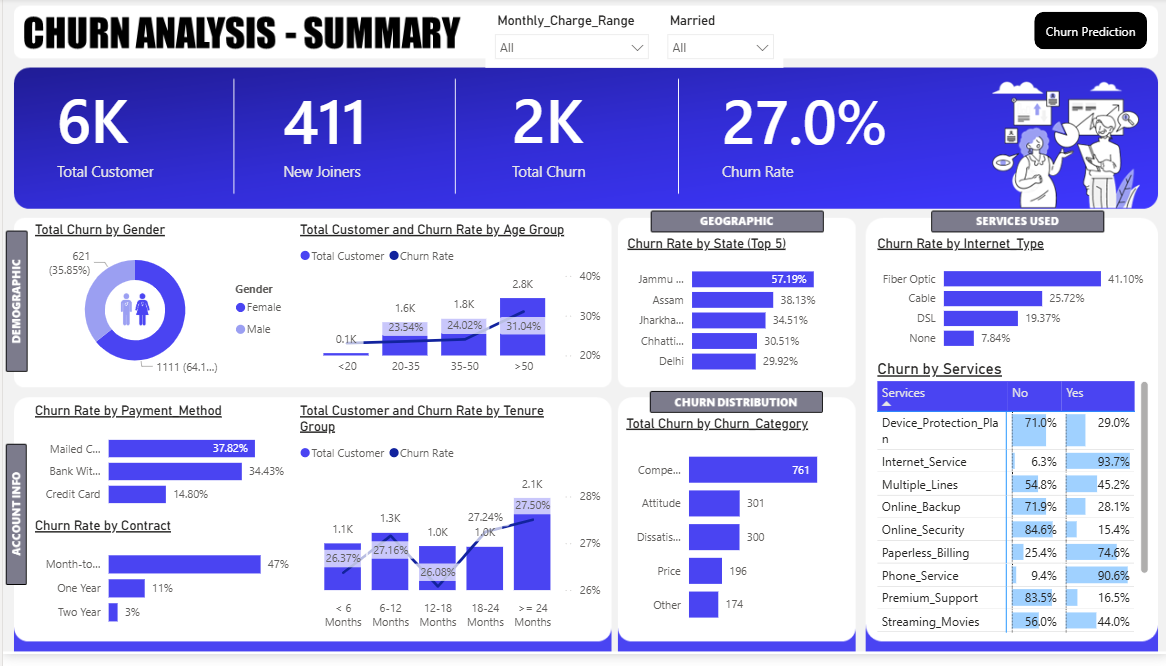

The dashboard page shown, as its layout file describes it:
{"tool":"powerbi","page":{"name":"Summary","canvas":[1280,720],"ordinal":0},"visuals":[{"type":"cardVisual","fields":{"Data":["tbl_Measures.Total Customer"]},"box":[30.2,67.2,182.5,153.7],"z":0},{"type":"cardVisual","fields":{"Data":["tbl_Measures.New Joiners"]},"box":[278.6,60.4,190.7,168.8],"z":1000},{"type":"cardVisual","fields":{"Data":["tbl_Measures.Total Churn"]},"box":[529.7,67.2,190.7,153.7],"z":2000},{"type":"cardVisual","fields":{"Data":["tbl_Measures.Churn Rate"]},"box":[760.2,65.9,242.9,157.8],"z":3000},{"type":"donutChart","fields":{"Category":["prod_Churn.Gender"],"Y":["tbl_Measures.Total Churn"]},"box":[30.2,245.6,290.9,177],"z":4000},{"type":"lineStackedColumnComboChart","fields":{"Category":["mapping_AgeGrp.Age Group"],"Y":["tbl_Measures.Total Customer"],"Y2":["tbl_Measures.Churn Rate"]},"box":[321.1,245.6,340.3,177],"z":5000},{"type":"clusteredBarChart","fields":{"Category":["prod_Churn.Payment_Method"],"Y":["tbl_Measures.Churn Rate"]},"box":[30.2,444.6,290.9,126.2],"z":6000},{"type":"clusteredBarChart","fields":{"Category":["prod_Churn.Contract"],"Y":["tbl_Measures.Churn Rate"]},"box":[30.2,570.8,290.9,130.4],"z":7000},{"type":"lineStackedColumnComboChart","fields":{"Category":["mapping_TenureGrp.Tenure Group"],"Y":["tbl_Measures.Total Customer"],"Y2":["tbl_Measures.Churn Rate"]},"box":[321.1,444.6,340.3,256.6],"z":8000},{"type":"clusteredBarChart","title":"Churn Rate by State (Top 5)","fields":{"Category":["prod_Churn.State"],"Y":["tbl_Measures.Churn Rate"]},"box":[680.6,260.7,252.5,161.9],"z":9000},{"type":"clusteredBarChart","fields":{"Category":["prod_Churn.Churn_Category"],"Y":["tbl_Measures.Total Churn"]},"box":[679.2,458.3,244.3,242.9],"z":10000},{"type":"clusteredBarChart","fields":{"Category":["prod_Churn.Internet_Type"],"Y":["tbl_Measures.Churn Rate"]},"box":[955.1,260.7,307.4,135.8],"z":11000},{"type":"pivotTable","title":"Churn by Services","fields":{"Rows":["prod_Services.Services"],"Columns":["prod_Services.Status"],"Values":["Sum(prod_Services.Churn_Status)"]},"box":[955.1,396.6,307.4,304.6],"z":12000},{"type":"slicer","fields":{"Values":["prod_Churn.Monthly_Charge_Status"]},"box":[529.7,11,189.4,65.9],"z":13000},{"type":"image","box":[96.1,318.4,98.8,45.3],"z":14000},{"type":"slicer","fields":{"Values":["prod_Churn.Married"]},"box":[719,11,137.2,65.9],"z":15000},{"type":"shape","box":[1131.7,14.9,123.9,41.3],"z":16000}]}

Visuals, with their boxes in screenshot pixels (x1, y1, x2, y2), scaled from the page's 1280x720 canvas onto the 1166x666 screenshot:
cardVisual - tbl_Measures.Total Customer: (28, 62, 194, 204)
cardVisual - tbl_Measures.New Joiners: (254, 56, 428, 212)
cardVisual - tbl_Measures.Total Churn: (483, 62, 656, 204)
cardVisual - tbl_Measures.Churn Rate: (692, 61, 914, 207)
donutChart - prod_Churn.Gender x tbl_Measures.Total Churn: (28, 227, 293, 391)
lineStackedColumnComboChart - mapping_AgeGrp.Age Group x tbl_Measures.Total Customer: (293, 227, 602, 391)
clusteredBarChart - prod_Churn.Payment_Method x tbl_Measures.Churn Rate: (28, 411, 293, 528)
clusteredBarChart - prod_Churn.Contract x tbl_Measures.Churn Rate: (28, 528, 293, 649)
lineStackedColumnComboChart - mapping_TenureGrp.Tenure Group x tbl_Measures.Total Customer: (293, 411, 602, 649)
"Churn Rate by State (Top 5)" clusteredBarChart: (620, 241, 850, 391)
clusteredBarChart - prod_Churn.Churn_Category x tbl_Measures.Total Churn: (619, 424, 841, 649)
clusteredBarChart - prod_Churn.Internet_Type x tbl_Measures.Churn Rate: (870, 241, 1150, 367)
"Churn by Services" pivotTable: (870, 367, 1150, 649)
slicer - prod_Churn.Monthly_Charge_Status: (483, 10, 655, 71)
image: (88, 295, 178, 336)
slicer - prod_Churn.Married: (655, 10, 780, 71)
shape: (1031, 14, 1144, 52)
